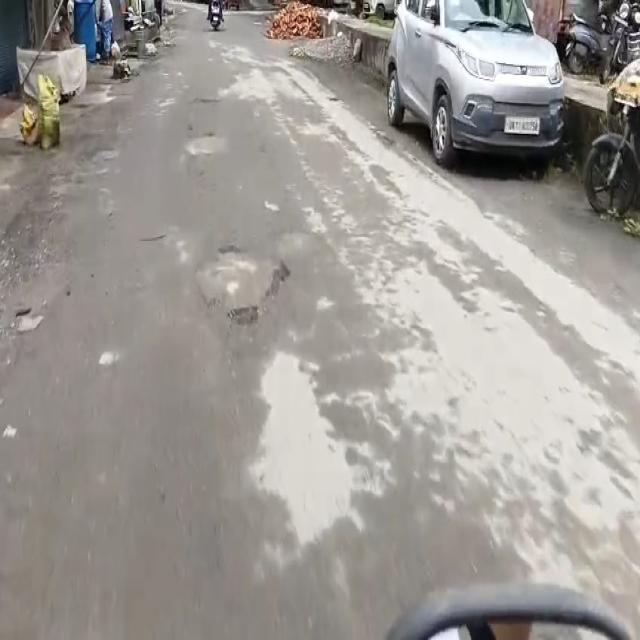road-pothole: (195, 241, 292, 339)
